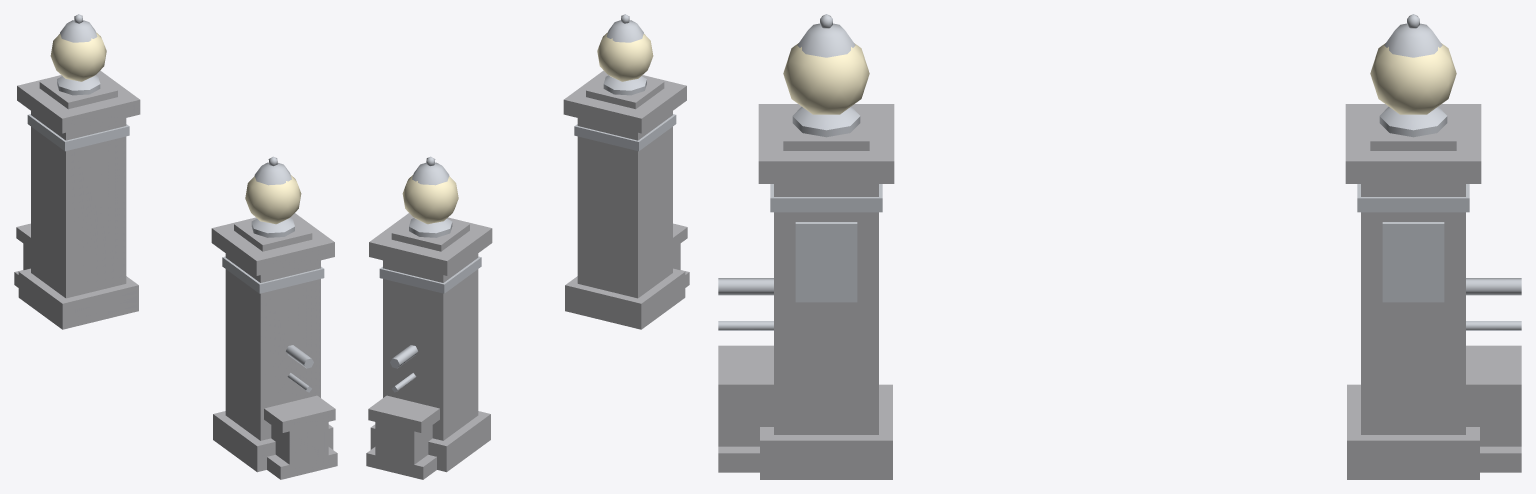
File: village.citygate.glb
The picture shows the model from 3 angles, left to right: view 1: azimuth 30°, elevation 25°; view 2: azimuth 150°, elevation 25°; view 3: azimuth 270°, elevation 25°; orthographic projection. The views are drawn at different scales.
Visible parts, largest first — view 1: Stone, Metal, Light; view 2: Stone, Metal, Light; view 3: Stone, Metal, Light.
Boxes of the visible parts, <box> form: Stone: <box>14,70,337,479</box>; Metal: <box>27,14,324,392</box>; Light: <box>50,32,301,224</box>; Stone: <box>366,70,689,479</box>; Metal: <box>379,14,676,392</box>; Light: <box>402,32,653,224</box>; Stone: <box>718,104,1521,479</box>; Metal: <box>718,14,1521,330</box>; Light: <box>783,43,1456,114</box>.
Bounding box in the file's own units: 0.44 × 1.56 × 2.6.
